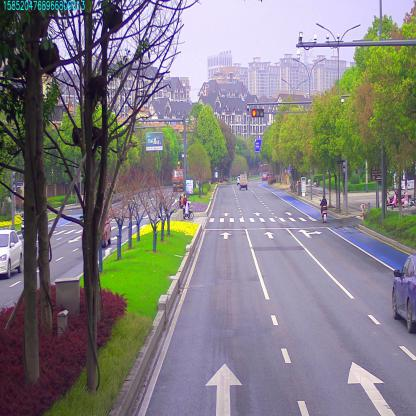traffic-light: (252, 107, 263, 116)
